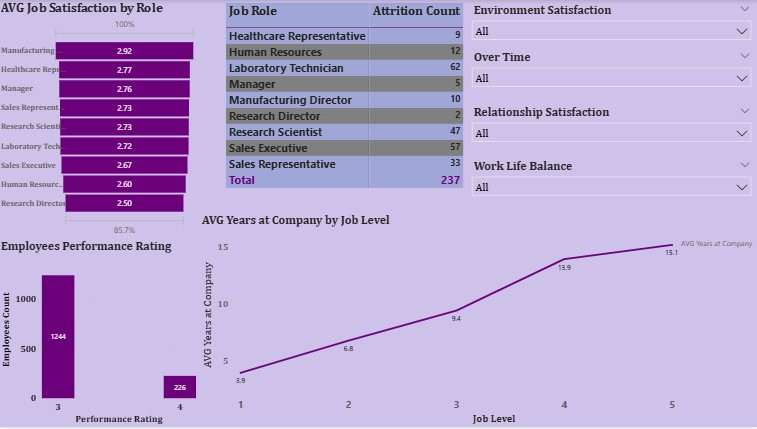

This screenshot's page, from the dashboard's own definition file:
{"tool":"powerbi","page":{"name":"More Insights","canvas":[1280,720],"ordinal":1},"visuals":[{"type":"clusteredColumnChart","title":"Employees Performance Rating ","fields":{"Category":["HR ATTRITION JAY CSV.Performance Rating "],"Y":["HR ATTRITION JAY CSV.Employee Count"]},"box":[0,403.1,339.3,317.5],"z":0},{"type":"funnel","title":"AVG Job Satisfaction by Role","fields":{"Category":["HR ATTRITION JAY CSV.Job Role"],"Y":["HR ATTRITION JAY CSV.AVG Job Satisfaction"]},"box":[0,0,339.3,403.1],"z":1000},{"type":"lineChart","fields":{"Y":["HR ATTRITION JAY CSV.AVG Years at Company"],"Category":["HR ATTRITION JAY CSV.Job Level"]},"box":[339,359.2,941,360.9],"z":2000},{"type":"pivotTable","fields":{"Rows":["HR ATTRITION JAY CSV.Job Role"],"Values":["HR ATTRITION JAY CSV.Attrition Count"]},"box":[379.4,0,411.5,359.2],"z":3000},{"type":"slicer","fields":{"Values":["HR ATTRITION JAY CSV.Environment Satisfaction"]},"box":[789.2,0,490.8,79.3],"z":3001},{"type":"slicer","fields":{"Values":["HR ATTRITION JAY CSV.Over Time"]},"box":[789.2,79.3,490.8,79.3],"z":3002},{"type":"slicer","fields":{"Values":["HR ATTRITION JAY CSV.Work Life Balance"]},"box":[789.2,263.1,490.8,79.3],"z":3003},{"type":"slicer","fields":{"Values":["HR ATTRITION JAY CSV.Relationship Satisfaction"]},"box":[789.2,171.9,490.8,79.3],"z":3004}]}

Visuals, with their boxes in screenshot pixels (x1, y1, x2, y2), scaled from the page's 1280x720 canvas onto the 757x429 screenshot:
"Employees Performance Rating " clusteredColumnChart: crop(0, 240, 201, 428)
"AVG Job Satisfaction by Role" funnel: crop(0, 0, 201, 240)
lineChart - HR ATTRITION JAY CSV.AVG Years at Company x HR ATTRITION JAY CSV.Job Level: crop(200, 214, 756, 428)
pivotTable - HR ATTRITION JAY CSV.Job Role x HR ATTRITION JAY CSV.Attrition Count: crop(224, 0, 468, 214)
slicer - HR ATTRITION JAY CSV.Environment Satisfaction: crop(467, 0, 756, 47)
slicer - HR ATTRITION JAY CSV.Over Time: crop(467, 47, 756, 94)
slicer - HR ATTRITION JAY CSV.Work Life Balance: crop(467, 157, 756, 204)
slicer - HR ATTRITION JAY CSV.Relationship Satisfaction: crop(467, 102, 756, 150)
